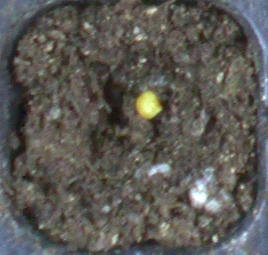chilli seed: (135, 89, 162, 119)
